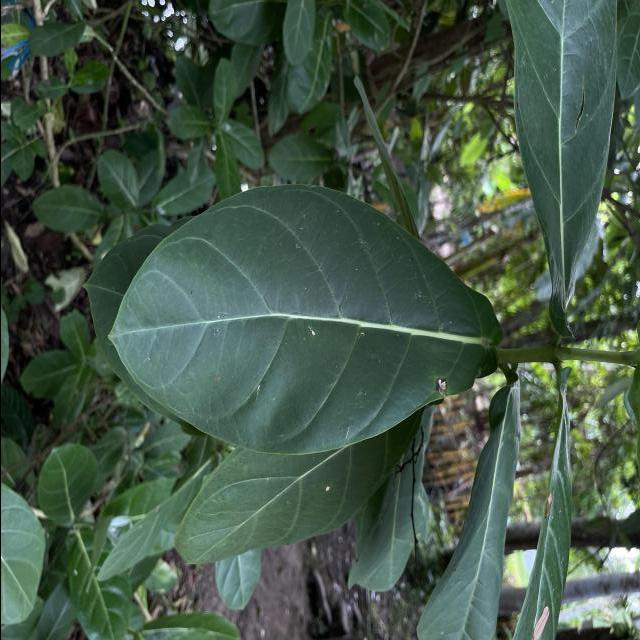Calotropis gigantea: (104, 180, 506, 458), (169, 405, 424, 565)
